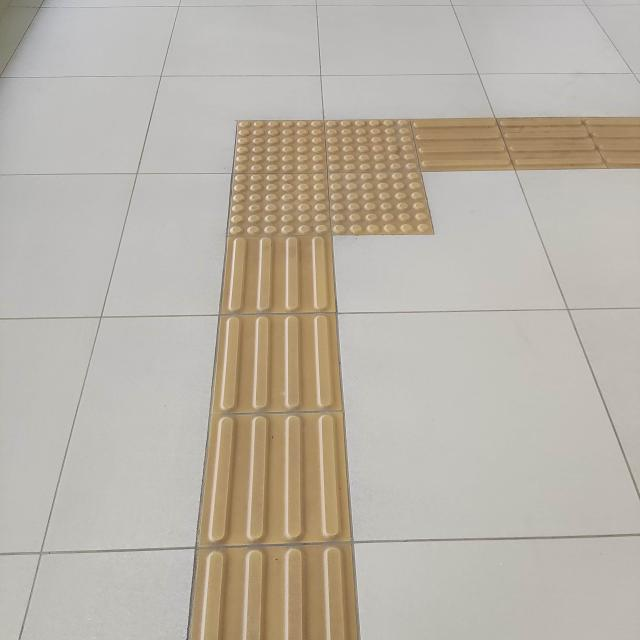kanan: (142, 67, 581, 270)
